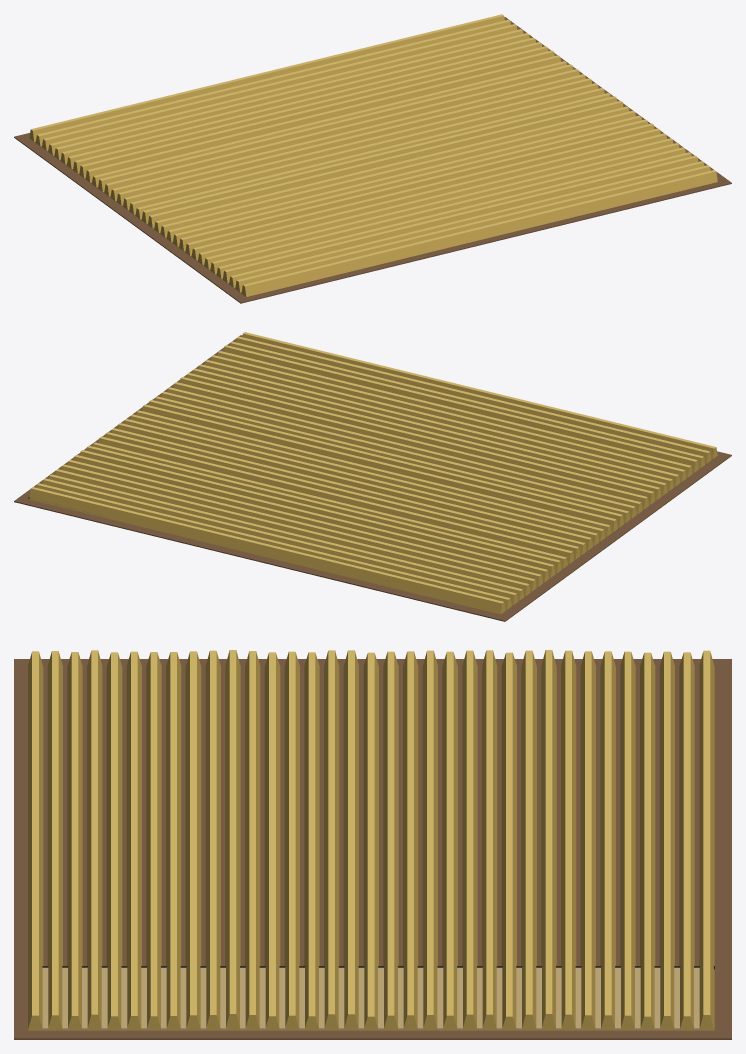
The model's file is Kir_alan_ekin_2.fbx.
3 views of the same model, one above another, from view 1: azimuth 30°, elevation 25°; view 2: azimuth 150°, elevation 25°; view 3: azimuth 270°, elevation 25° (orthographic). The views are drawn at different scales.
Visible parts, largest first — view 1: Kir_alan_ekin_2; view 2: Kir_alan_ekin_2; view 3: Kir_alan_ekin_2.
Part boxes in pixels (left/top/right/bottom): Kir_alan_ekin_2: left=14, top=14, right=731, bottom=303; Kir_alan_ekin_2: left=14, top=332, right=731, bottom=621; Kir_alan_ekin_2: left=14, top=650, right=731, bottom=1039.
Size of the model in its own units: 50 by 1.12 by 40.
